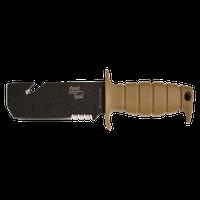knife: (3, 69, 197, 134)
